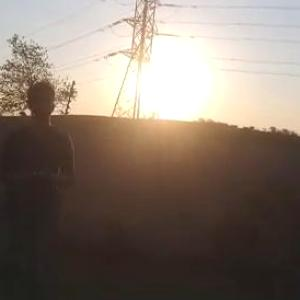follow: (0, 74, 81, 299)
